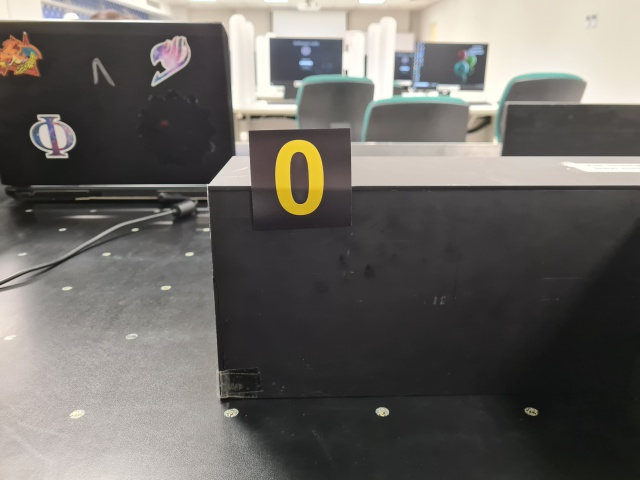zero: (249, 128, 354, 230)
